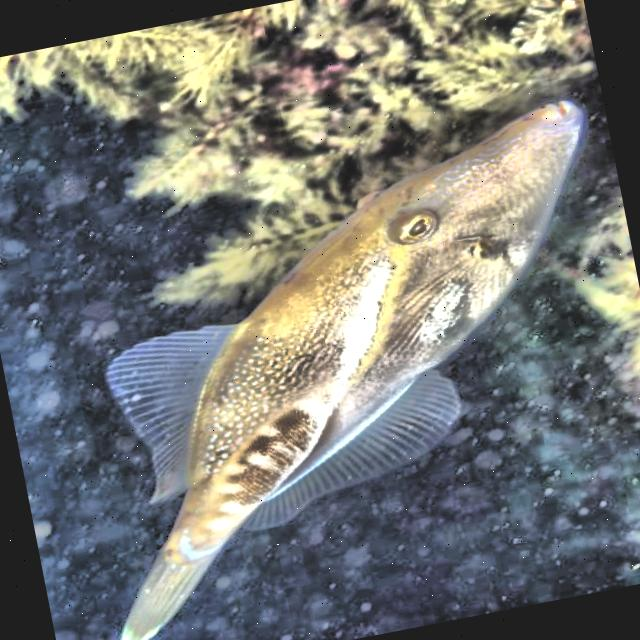fish: (31, 95, 640, 640)
